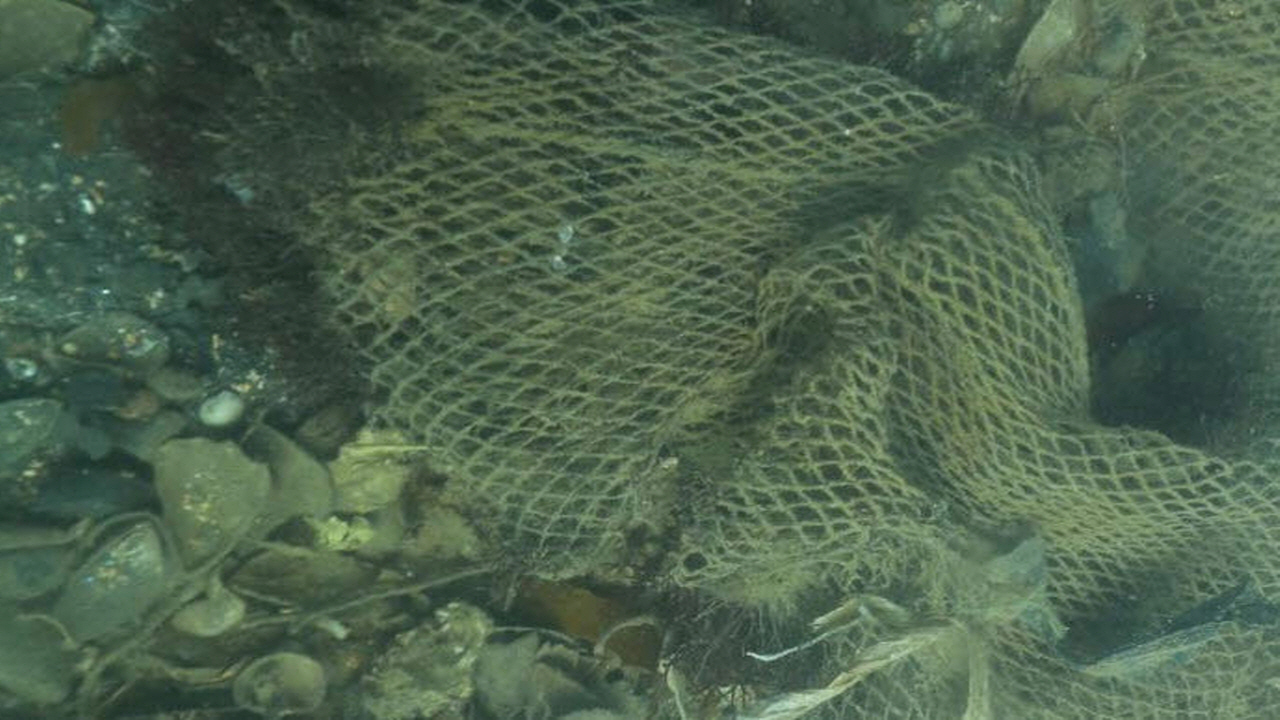fish net: (282, 0, 1280, 720)
